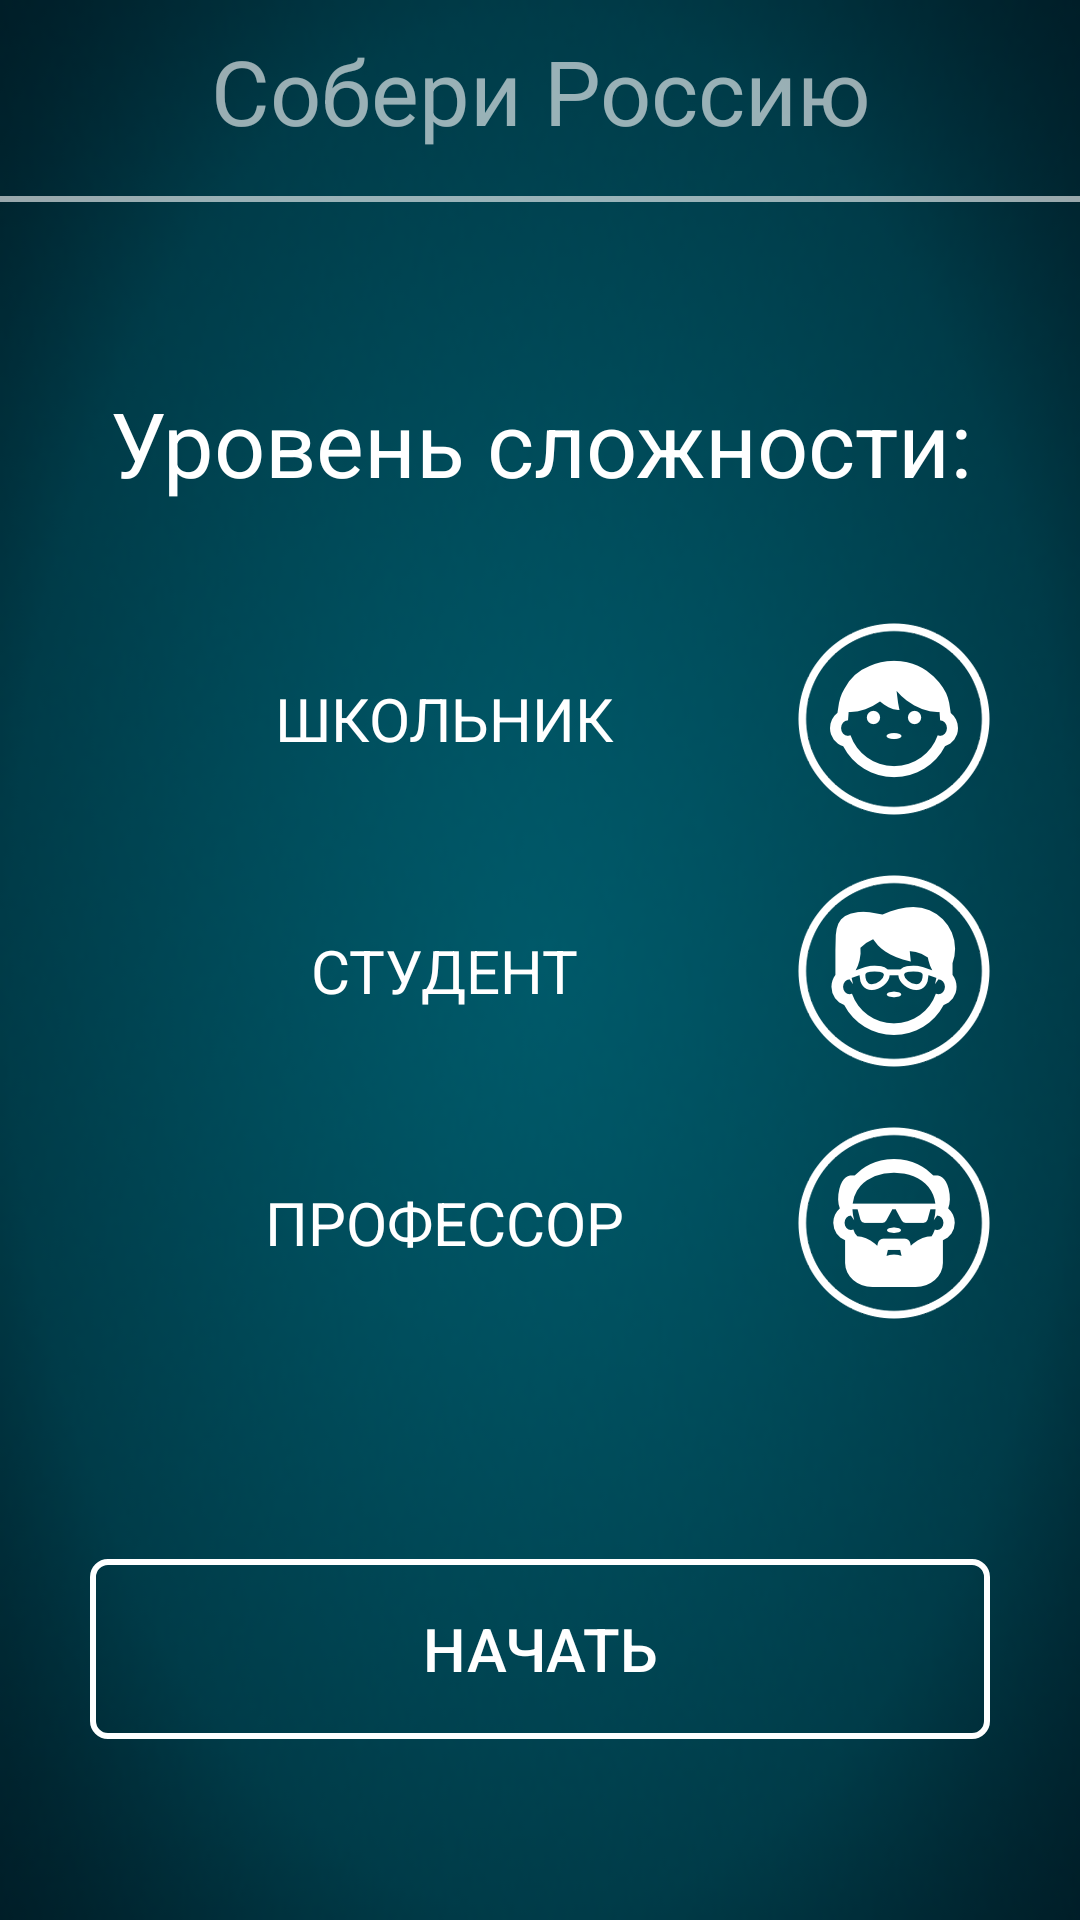

Point at icon controls on the screen. Image size 1080w x 1920h, points as (x,y).
level: (894,971)
level easy: (894,719)
level hard: (894,1223)
